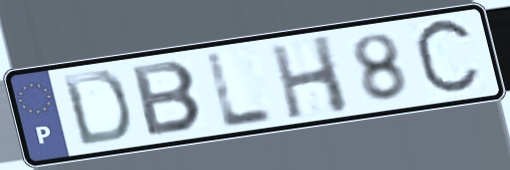8: (348, 31, 411, 103)
B: (128, 58, 208, 139)
C: (409, 13, 485, 102)
D: (58, 68, 133, 149)
H: (266, 32, 354, 122)
L: (204, 49, 279, 131)
